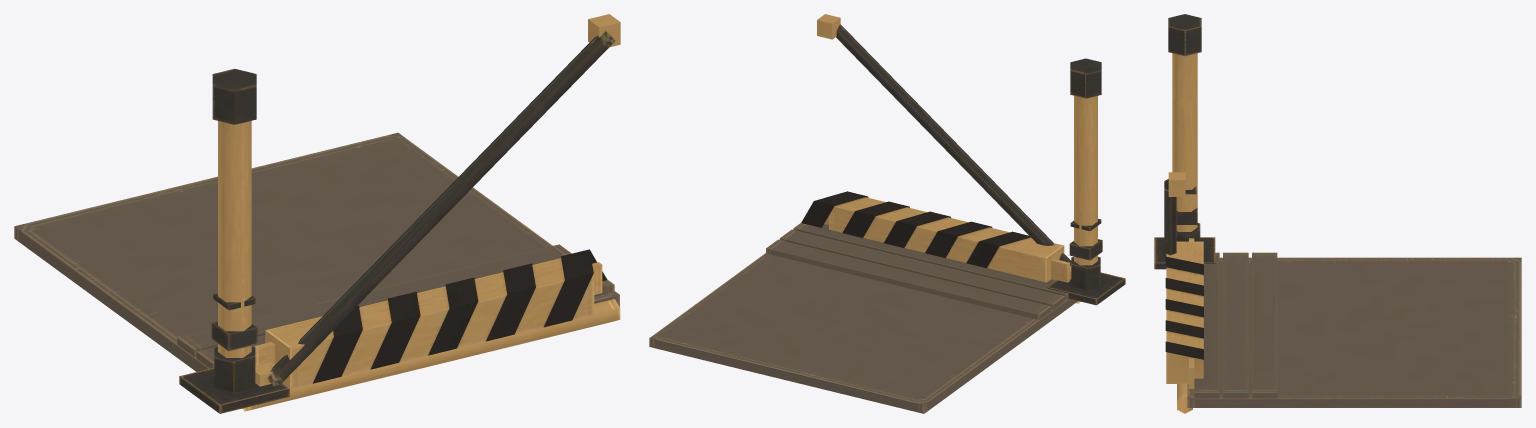
Rendered from scaffold-kit.glb.
3 views of the same model, side by side, from view 1: azimuth 30°, elevation 25°; view 2: azimuth 150°, elevation 25°; view 3: azimuth 270°, elevation 25° (orthographic). The views are drawn at different scales.
Visible parts, largest first — view 1: ScaffoldPad, ScaffoldCurb, ScaffoldBrace, ScaffoldPost, ScaffoldDeck, ScaffoldRail, ScaffoldFoot, ScaffoldBeacon; view 2: ScaffoldPad, ScaffoldDeck, ScaffoldCurb, ScaffoldPost, ScaffoldBrace, ScaffoldFoot, ScaffoldBeacon; view 3: ScaffoldPad, ScaffoldDeck, ScaffoldCurb, ScaffoldPost, ScaffoldBrace, ScaffoldFoot, ScaffoldBeacon.
Part boxes in pixels (x1=…): ScaffoldPad: x1=14, y1=132, x2=619, y2=371; ScaffoldCurb: x1=265, y1=249, x2=607, y2=388; ScaffoldBrace: x1=255, y1=14, x2=620, y2=386; ScaffoldPost: x1=212, y1=68, x2=256, y2=408; ScaffoldDeck: x1=177, y1=244, x2=614, y2=368; ScaffoldRail: x1=243, y1=299, x2=620, y2=411; ScaffoldFoot: x1=179, y1=346, x2=289, y2=413; ScaffoldBeacon: x1=211, y1=292, x2=257, y2=351; ScaffoldPad: x1=649, y1=253, x2=1077, y2=413; ScaffoldDeck: x1=766, y1=216, x2=1069, y2=319; ScaffoldCurb: x1=801, y1=191, x2=1064, y2=282; ScaffoldPost: x1=1070, y1=58, x2=1101, y2=301; ScaffoldBrace: x1=817, y1=14, x2=1071, y2=279; ScaffoldFoot: x1=1046, y1=257, x2=1125, y2=305; ScaffoldBeacon: x1=1069, y1=218, x2=1102, y2=260; ScaffoldPad: x1=1187, y1=257, x2=1521, y2=407; ScaffoldDeck: x1=1189, y1=238, x2=1277, y2=398; ScaffoldCurb: x1=1165, y1=241, x2=1203, y2=383; ScaffoldPost: x1=1168, y1=14, x2=1201, y2=231; ScaffoldBrace: x1=1164, y1=172, x2=1185, y2=262; ScaffoldFoot: x1=1154, y1=223, x2=1215, y2=269; ScaffoldBeacon: x1=1176, y1=186, x2=1197, y2=224.
Bounding box in the file's own units: 2.18 × 1.64 × 2.17.
Materials: 1 (1 with a texture image).
